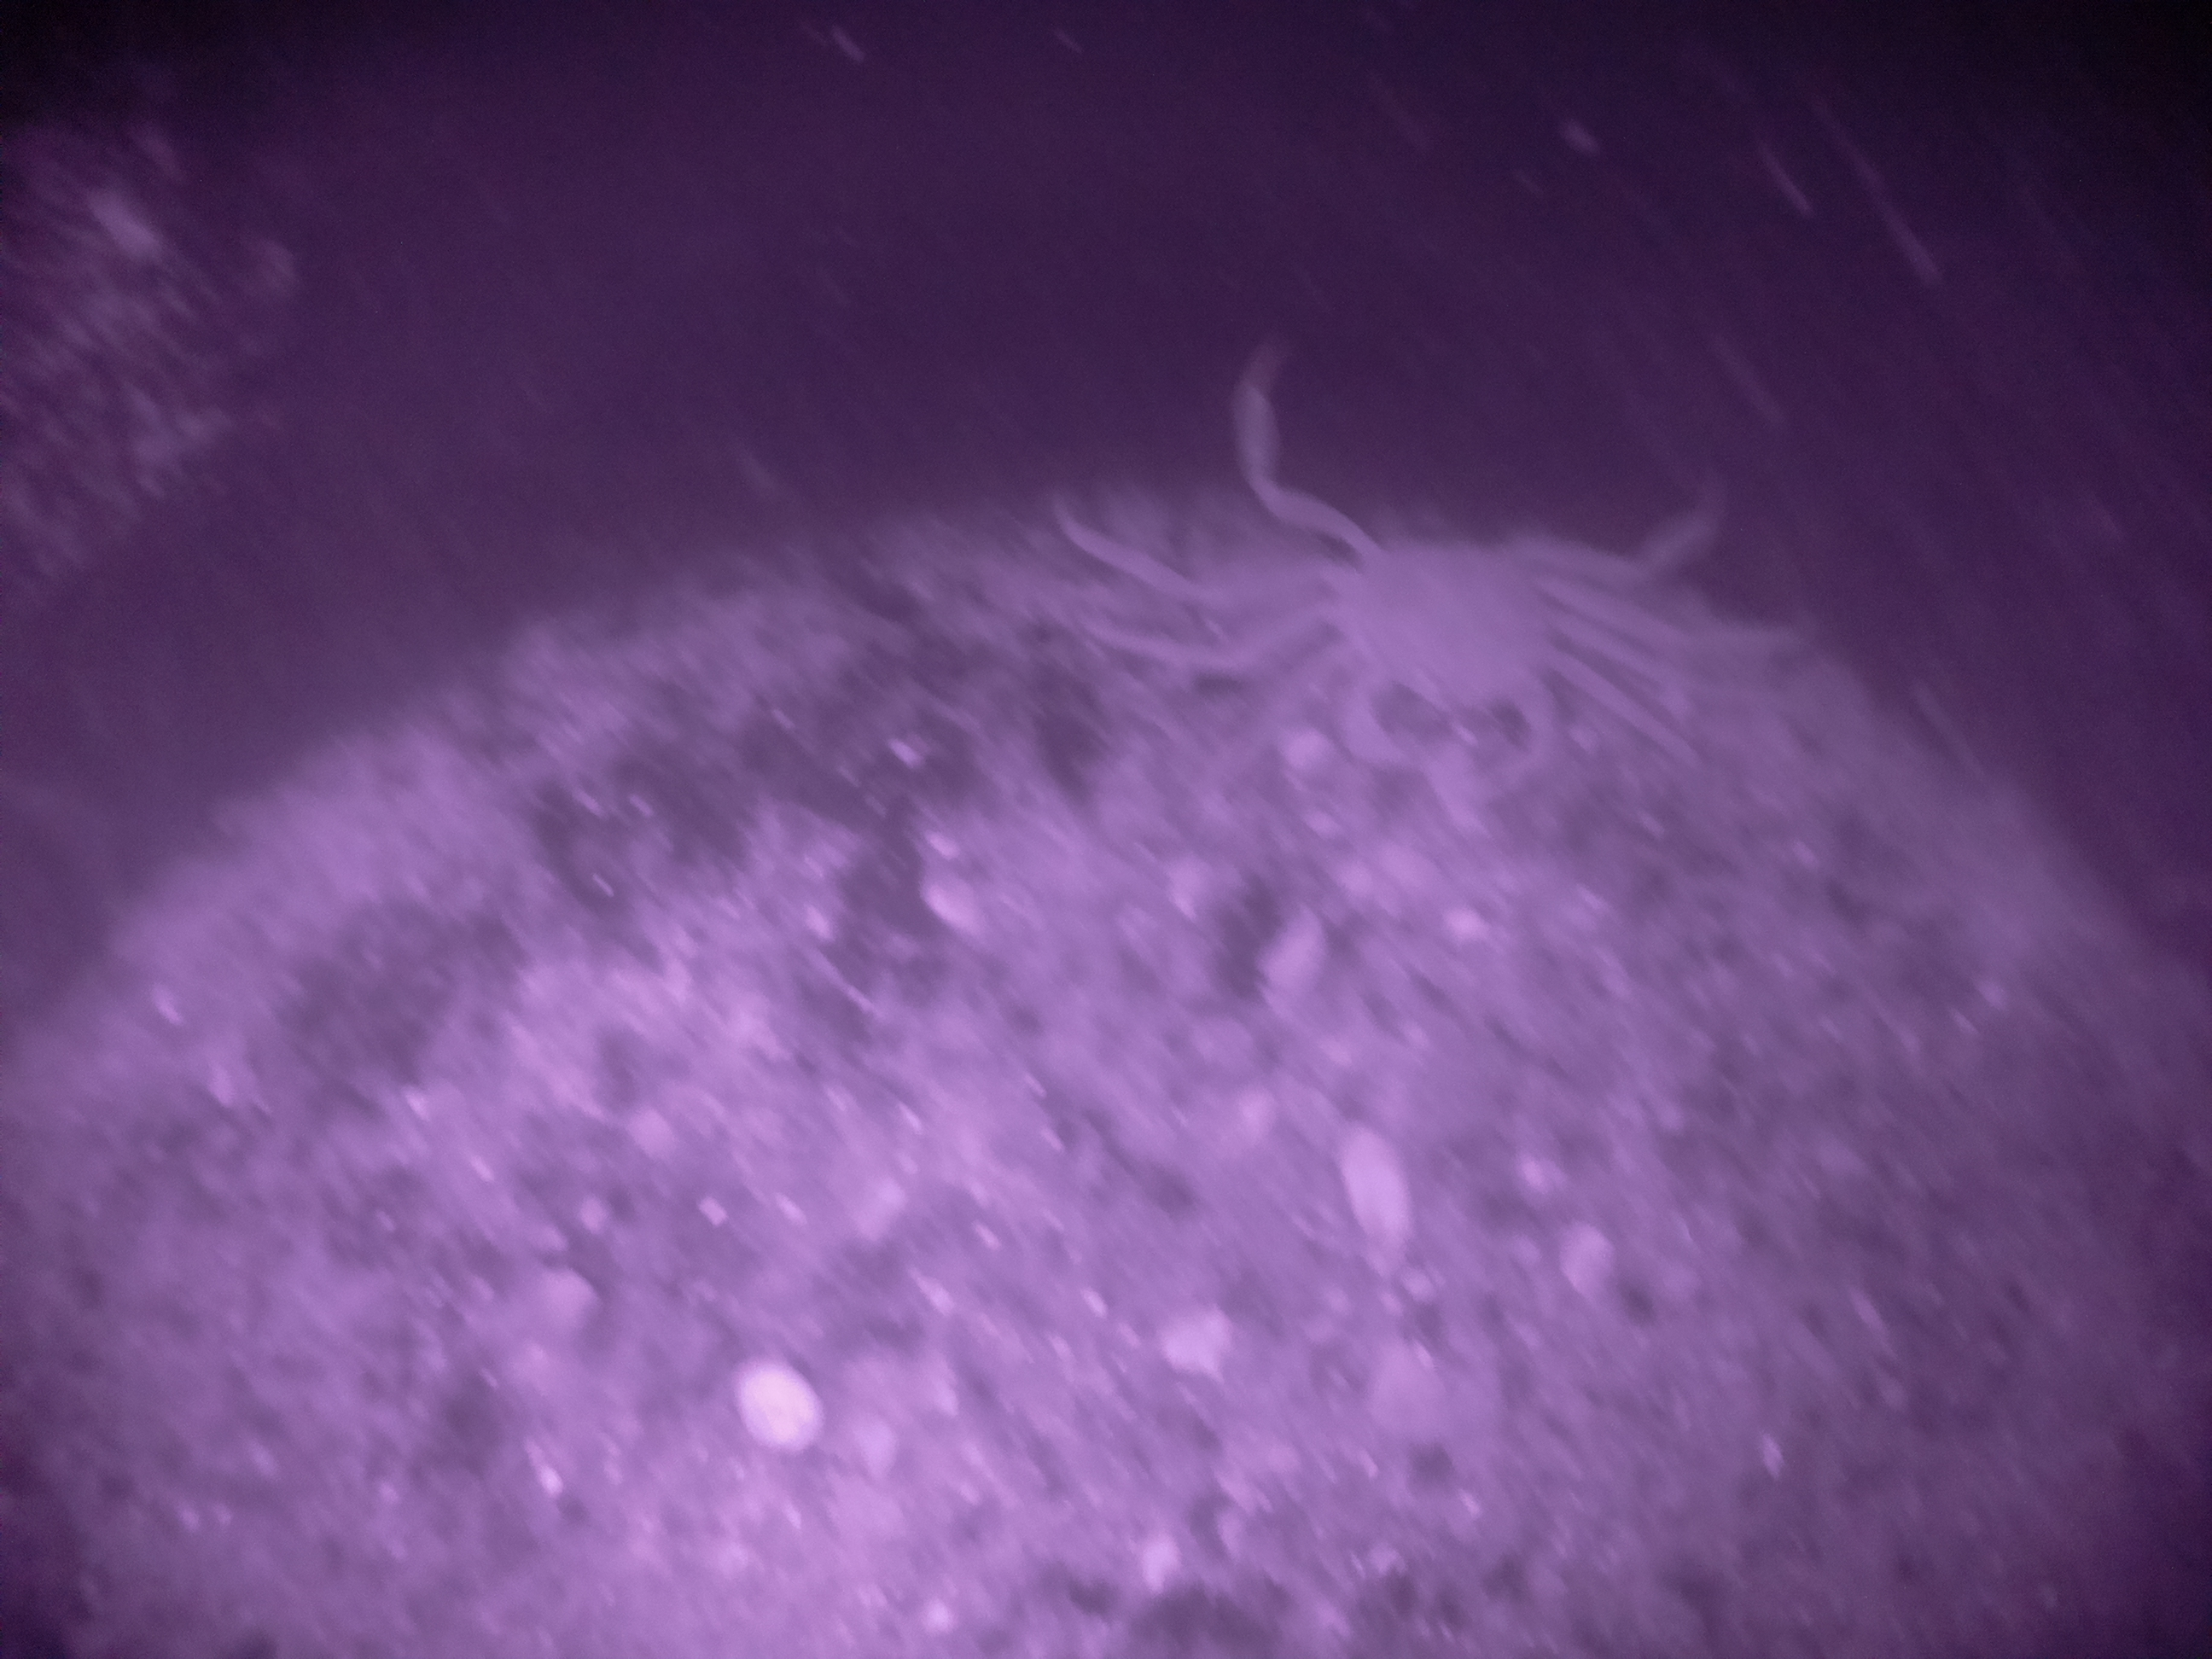Crab: (1261, 436, 1629, 798)
